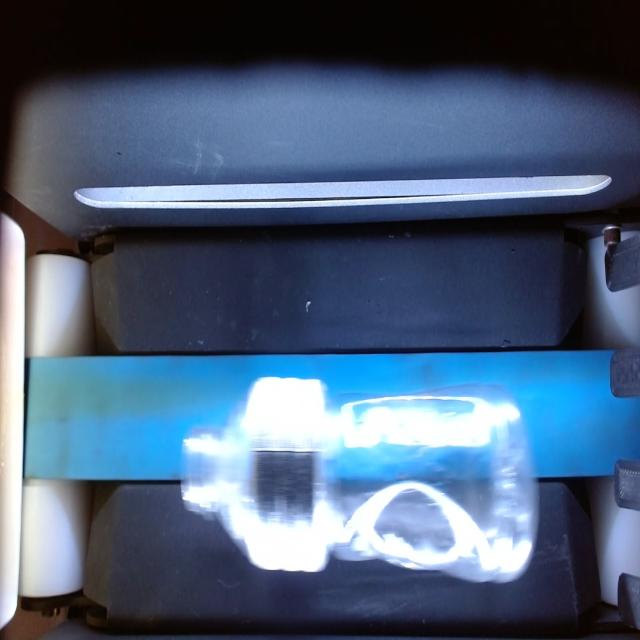bottom: (333, 385, 541, 590)
label: (244, 373, 330, 575)
neck: (179, 401, 246, 538)
